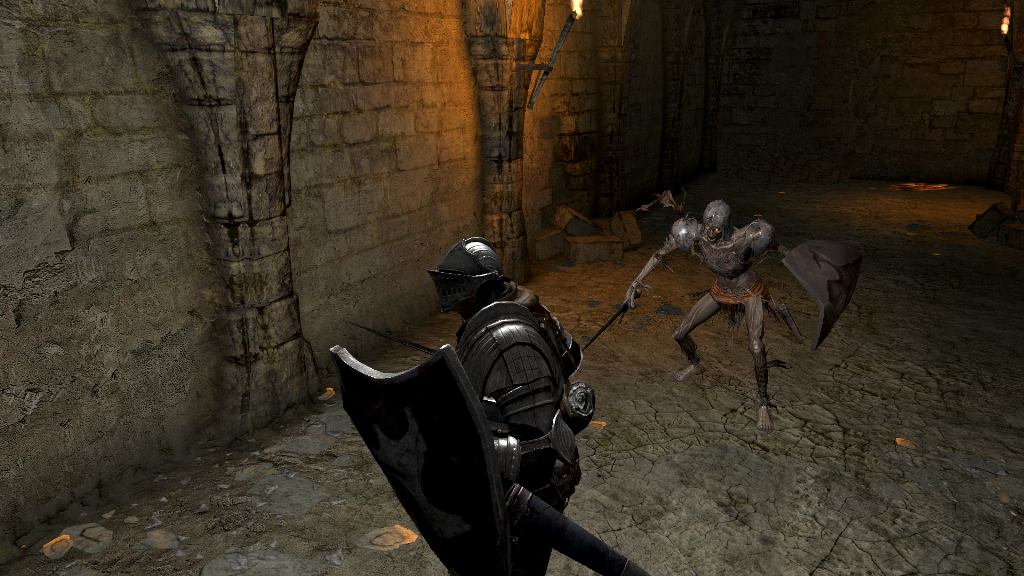player: (326, 236, 597, 576)
undeadSoldier: (621, 198, 792, 434)
